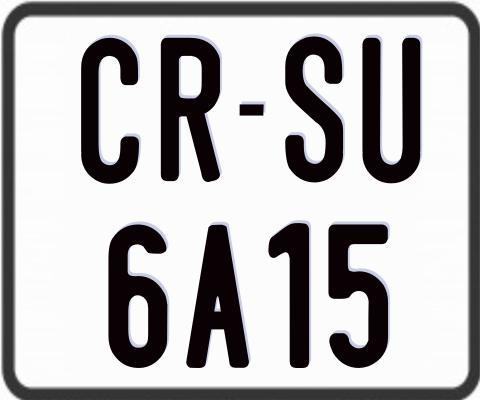1: (266, 223, 307, 368)
5: (327, 222, 391, 369)
6: (108, 223, 171, 371)
A: (184, 223, 252, 366)
C: (80, 35, 138, 187)
R: (161, 36, 221, 181)
S: (284, 35, 346, 182)
U: (359, 35, 417, 180)
